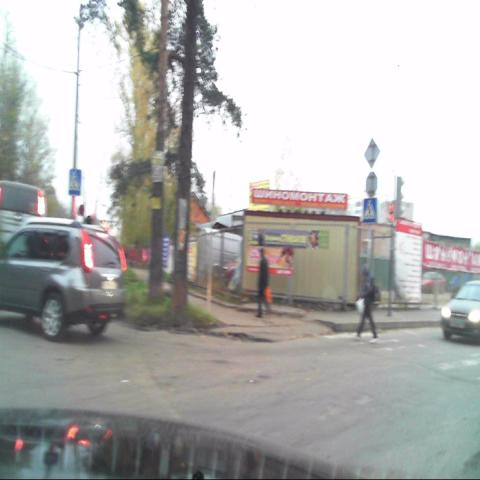5_19_1: (364, 198, 376, 223)
